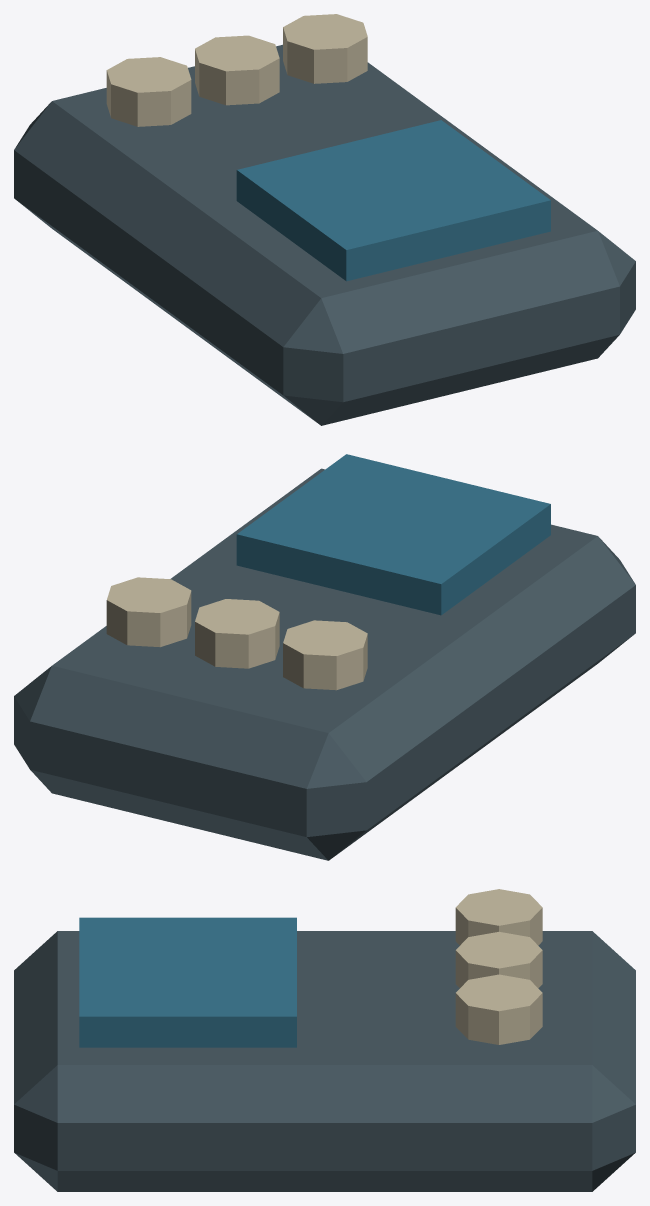
The model's file is set_switch_unit.glb.
3 views of the same model, one above another, from view 1: azimuth 30°, elevation 25°; view 2: azimuth 150°, elevation 25°; view 3: azimuth 270°, elevation 25° (orthographic).
Parts seen in each view (by area): view 1: set_switch_unit; view 2: set_switch_unit; view 3: set_switch_unit.
Boxes of the visible parts, <box> form: set_switch_unit: <box>14,14,635,425</box>; set_switch_unit: <box>14,454,635,860</box>; set_switch_unit: <box>14,889,635,1191</box>.
Size of the model in its own units: 0.13 by 0.062 by 0.2.
